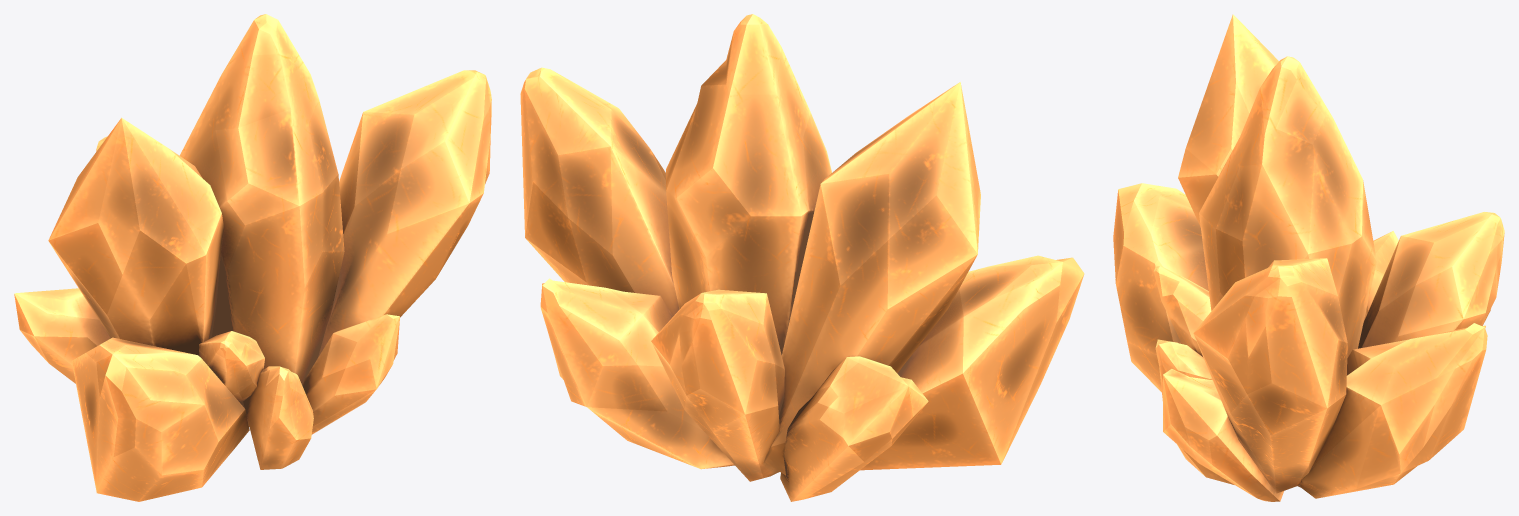
The model's file is lgOrange.gltf.
The picture shows the model from 3 angles, left to right: view 1: azimuth 30°, elevation 25°; view 2: azimuth 150°, elevation 25°; view 3: azimuth 270°, elevation 25°; orthographic projection. The views are drawn at different scales.
Parts seen in each view (by area): view 1: Object_8; view 2: Object_8; view 3: Object_8.
Boxes of the visible parts, left/top/right/bottom form: Object_8: left=14, top=14, right=491, bottom=501; Object_8: left=520, top=14, right=1084, bottom=501; Object_8: left=1113, top=14, right=1504, bottom=501.
Bounding box in the file's own units: 2.77 × 2.46 × 2.
Materials: 1 (1 with a texture image).
